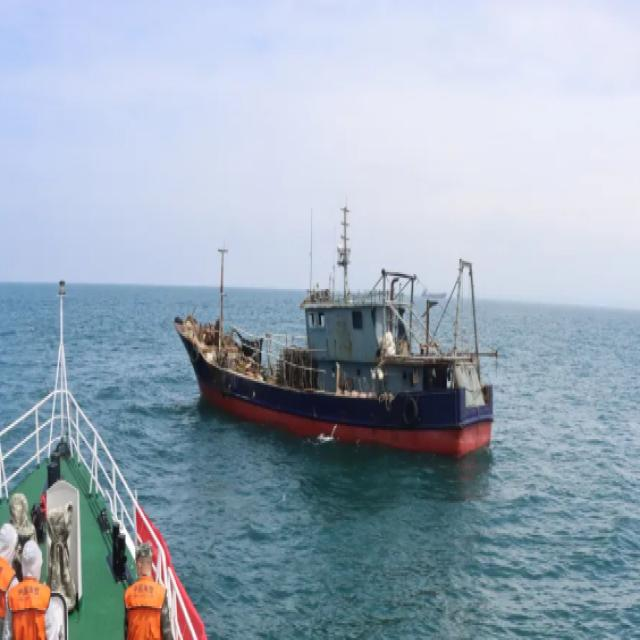fishing boat: (172, 208, 498, 460)
